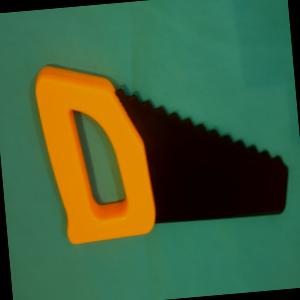serrote: (32, 45, 293, 248)
